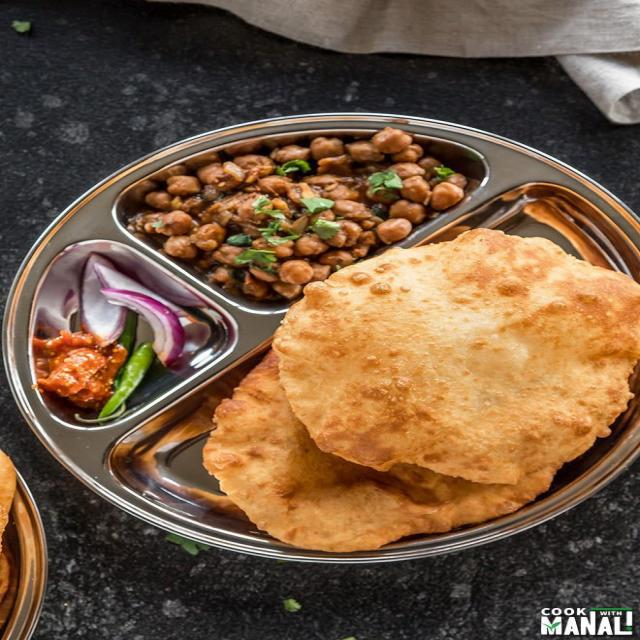chole: (99, 127, 478, 274)
puri: (273, 229, 639, 484)
